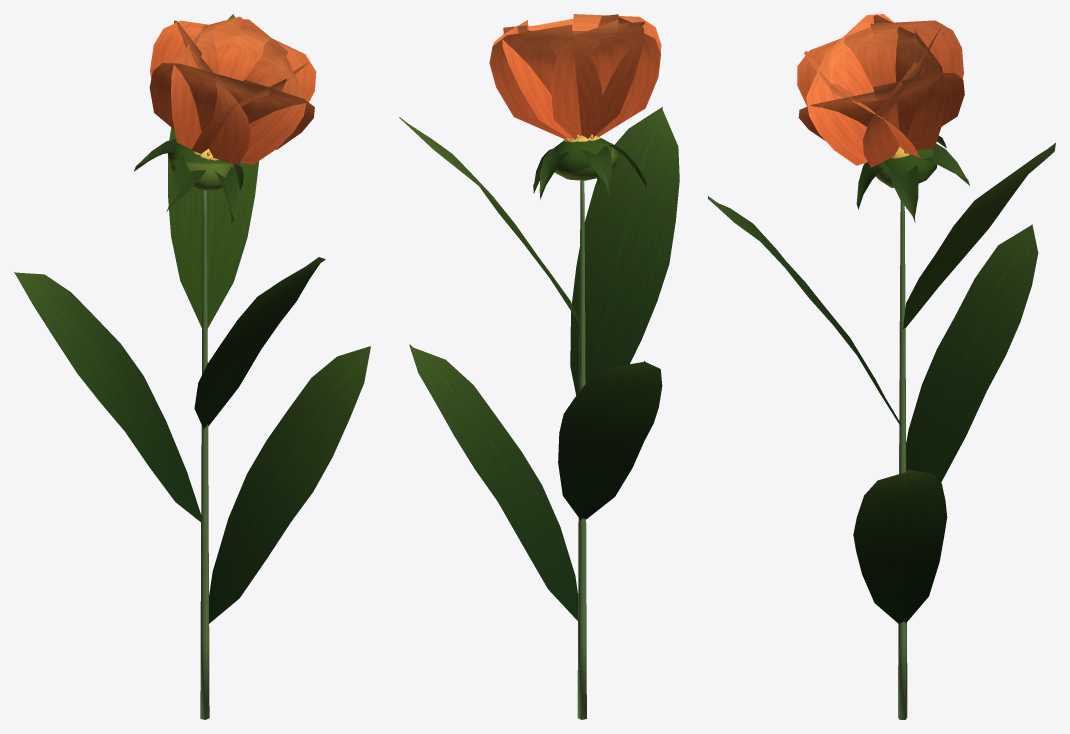
Rendered from tulip-10-lod.glb.
3 renders of one model, left to right at view 1: azimuth 30°, elevation 25°; view 2: azimuth 150°, elevation 25°; view 3: azimuth 270°, elevation 25°, orthographic.
Visible parts, largest first — view 1: tulip_stage_10_leaf_veins.019, tulip_stage_10_tulip_petal.019, tulip_stage_10_young_leaf.019, tulip_stage_10_stem_fibres.019; view 2: tulip_stage_10_leaf_veins.019, tulip_stage_10_tulip_petal.019, tulip_stage_10_young_leaf.019, tulip_stage_10_stem_fibres.019; view 3: tulip_stage_10_leaf_veins.019, tulip_stage_10_tulip_petal.019, tulip_stage_10_young_leaf.019, tulip_stage_10_stem_fibres.019.
Boxes of the visible parts, x1,y1,x2,y2 form: tulip_stage_10_leaf_veins.019: (14, 139, 370, 623); tulip_stage_10_tulip_petal.019: (149, 16, 316, 164); tulip_stage_10_young_leaf.019: (168, 14, 258, 328); tulip_stage_10_stem_fibres.019: (200, 190, 209, 719); tulip_stage_10_leaf_veins.019: (409, 107, 679, 621); tulip_stage_10_tulip_petal.019: (489, 14, 661, 139); tulip_stage_10_young_leaf.019: (399, 117, 618, 325); tulip_stage_10_stem_fibres.019: (577, 180, 586, 719); tulip_stage_10_leaf_veins.019: (708, 136, 1038, 624); tulip_stage_10_tulip_petal.019: (797, 14, 964, 167); tulip_stage_10_young_leaf.019: (874, 143, 1055, 328); tulip_stage_10_stem_fibres.019: (898, 200, 907, 719).
Size of the model in its own units: 0.2762 by 0.6171 by 0.2809.
Materials: 5 (3 with a texture image).
